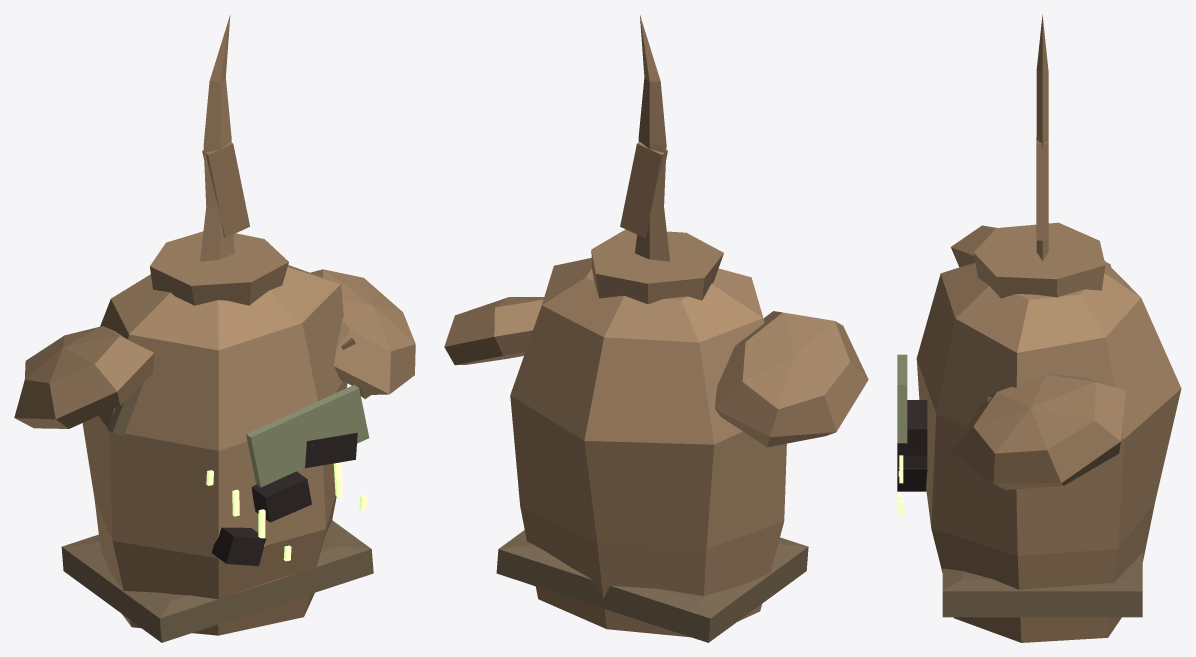
Rendered from the_rusted.glb.
The picture shows the model from 3 angles, left to right: view 1: azimuth 30°, elevation 25°; view 2: azimuth 150°, elevation 25°; view 3: azimuth 270°, elevation 25°; orthographic projection.
Parts seen in each view (by area): view 1: Torso, PauldronL, PauldronR, Weapon; view 2: Torso, PauldronL, Weapon, PauldronR; view 3: Torso, PauldronR, Weapon, PauldronL.
Boxes of the visible parts, box(x1,y1,x2,y2) form: Torso: box(61, 231, 373, 642); PauldronL: box(14, 326, 154, 435); PauldronR: box(310, 269, 415, 398); Weapon: box(200, 15, 249, 261); Torso: box(496, 229, 808, 642); PauldronL: box(715, 311, 868, 447); Weapon: box(620, 15, 670, 261); PauldronR: box(444, 297, 544, 365); Torso: box(897, 222, 1181, 642); PauldronR: box(950, 374, 1125, 489); Weapon: box(1036, 14, 1048, 260); PauldronL: box(951, 225, 1110, 267).
Size of the model in its own units: 0.9132 by 1.3 by 0.5678.
